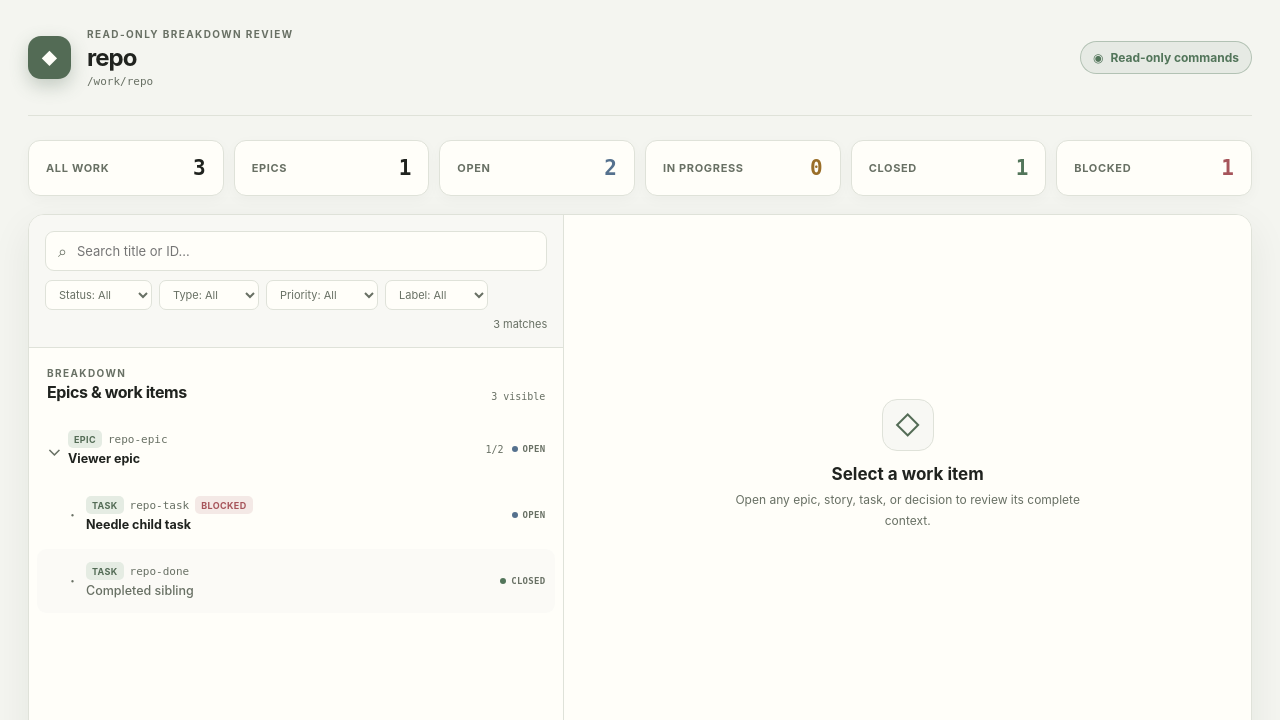
it: App › shows a clear epic dependency empty state
The width and height of the screenshot is (1280, 720).
Click the text "Viewer epic" at (104, 460), box [68,451,140,468]
(page scrolled)
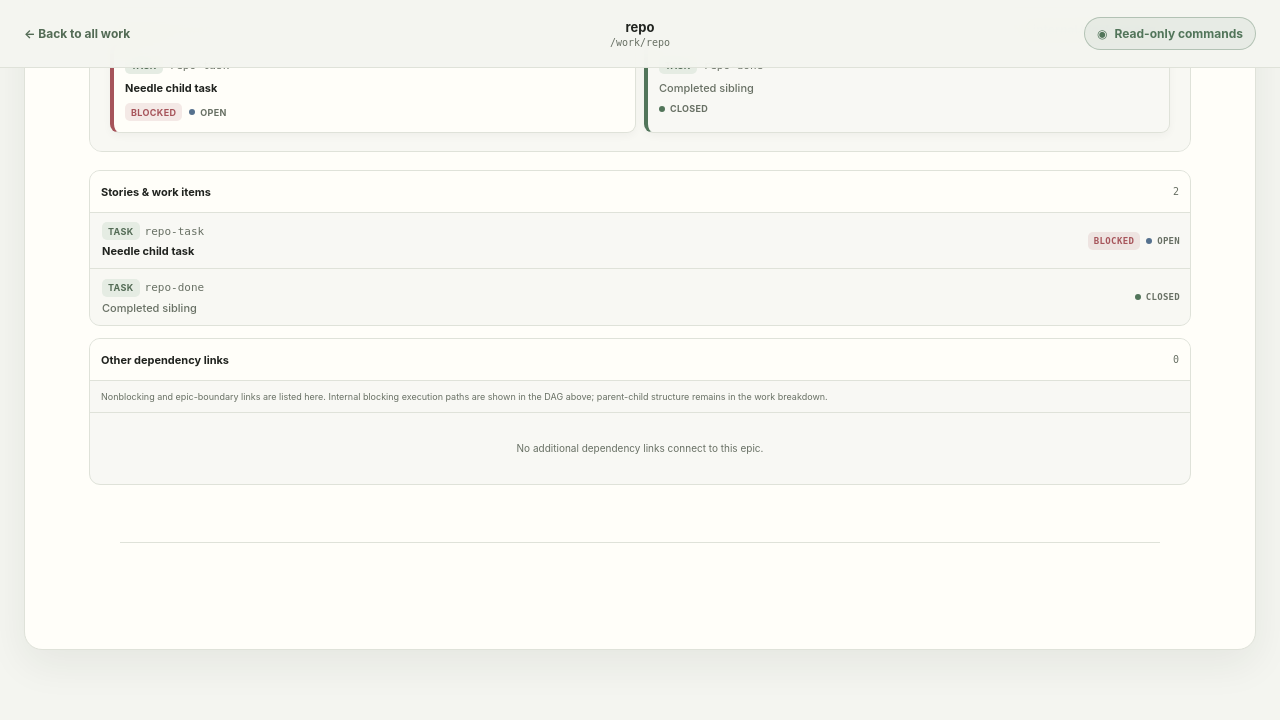
expect the text "No internal blocking edges" is shown: met, box [1014,22,1170,37]
expect the text "No additional dependency links connect to this epic." is shown: met, box [517,442,763,454]
